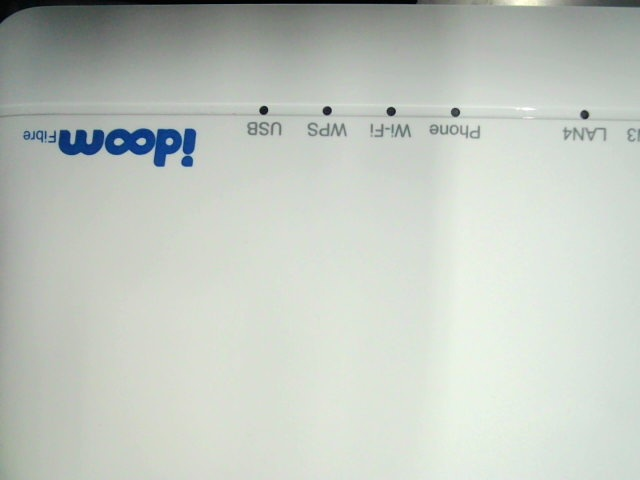BB_idoom: (19, 120, 198, 172)
